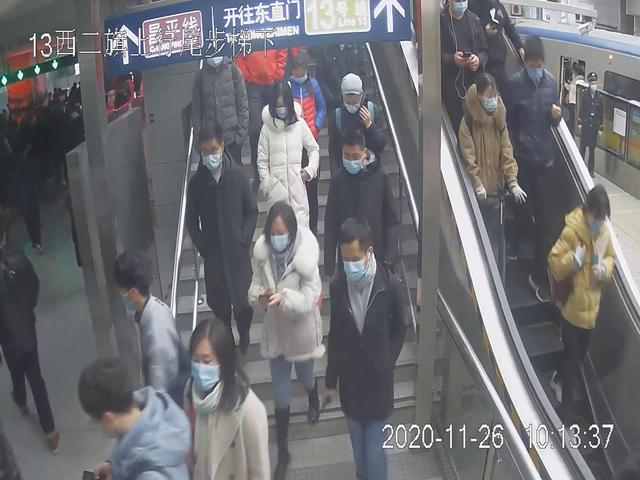person: (245, 199, 326, 480), (325, 216, 409, 480), (541, 181, 620, 422), (182, 117, 254, 368), (455, 69, 530, 287), (497, 32, 563, 242), (326, 130, 404, 305), (252, 77, 325, 251)
